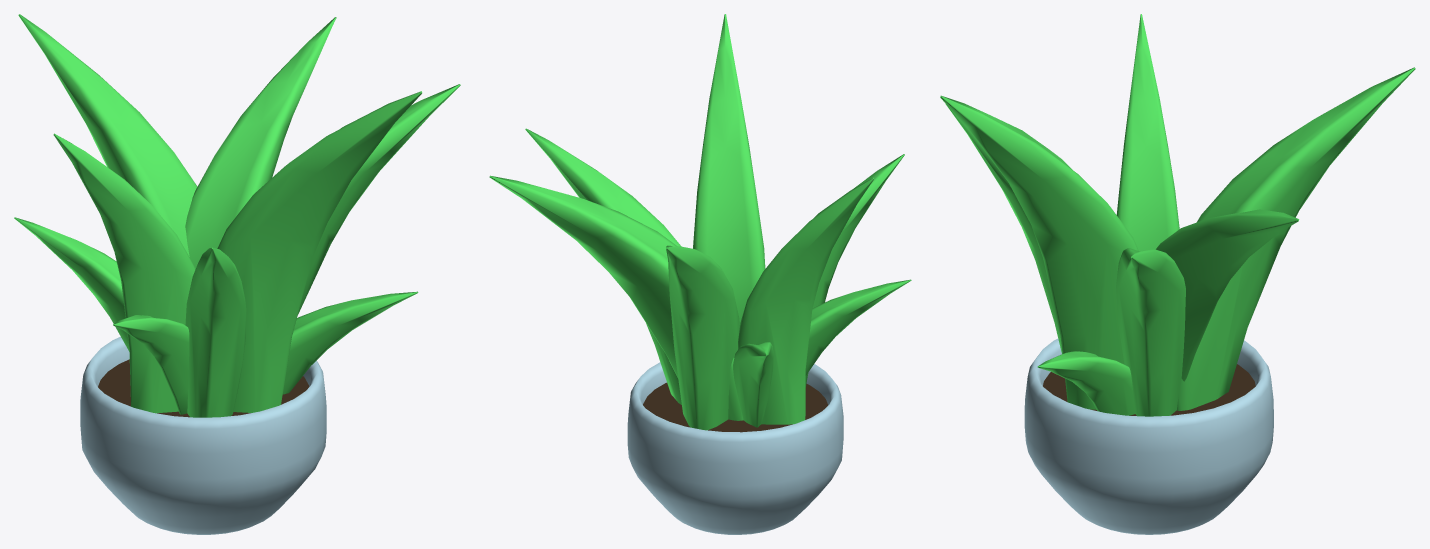
File: flower1.glb
The picture shows the model from 3 angles, left to right: view 1: azimuth 30°, elevation 25°; view 2: azimuth 150°, elevation 25°; view 3: azimuth 270°, elevation 25°; orthographic projection. The views are drawn at different scales.
Parts seen in each view (by area): view 1: Vert, NurbsPath.003, NurbsPath.004, NurbsPath.006, NurbsPath.001, NurbsPath.005, NurbsPath.008, NurbsPath, NurbsPath.002, NurbsPath.007, Circle; view 2: Vert, NurbsPath.003, NurbsPath.004, NurbsPath.006, NurbsPath.001, NurbsPath, NurbsPath.007, NurbsPath.002, Circle, NurbsPath.005; view 3: Vert, NurbsPath.003, NurbsPath.001, NurbsPath, NurbsPath.004, NurbsPath.006, NurbsPath.008, NurbsPath.005, Circle.
Boxes of the visible parts, bbox=[...] form: Vert: bbox=[80, 336, 326, 534]; NurbsPath.003: bbox=[217, 91, 422, 412]; NurbsPath.004: bbox=[53, 133, 195, 413]; NurbsPath.006: bbox=[185, 17, 336, 268]; NurbsPath.001: bbox=[18, 14, 197, 256]; NurbsPath.005: bbox=[185, 247, 246, 417]; NurbsPath.008: bbox=[282, 291, 418, 394]; NurbsPath: bbox=[297, 84, 460, 315]; NurbsPath.002: bbox=[14, 217, 129, 351]; NurbsPath.007: bbox=[113, 315, 189, 414]; Circle: bbox=[98, 359, 308, 417]; Vert: bbox=[627, 362, 843, 534]; NurbsPath.003: bbox=[693, 14, 765, 324]; NurbsPath.004: bbox=[738, 178, 873, 424]; NurbsPath.006: bbox=[489, 175, 743, 420]; NurbsPath.001: bbox=[666, 245, 739, 430]; NurbsPath: bbox=[525, 128, 681, 404]; NurbsPath.007: bbox=[805, 279, 911, 375]; NurbsPath.002: bbox=[733, 342, 773, 427]; Circle: bbox=[643, 382, 827, 432]; NurbsPath.005: bbox=[805, 154, 904, 386]; Vert: bbox=[1024, 338, 1273, 534]; NurbsPath.003: bbox=[940, 95, 1138, 409]; NurbsPath.001: bbox=[1177, 67, 1415, 410]; NurbsPath: bbox=[1116, 248, 1185, 416]; NurbsPath.004: bbox=[1116, 14, 1179, 251]; NurbsPath.006: bbox=[1156, 209, 1299, 381]; NurbsPath.008: bbox=[1037, 351, 1135, 415]; NurbsPath.005: bbox=[945, 103, 1062, 354]; Circle: bbox=[1043, 364, 1255, 415].
Bounding box in the file's own units: 4.66 × 5.13 × 4.72.
